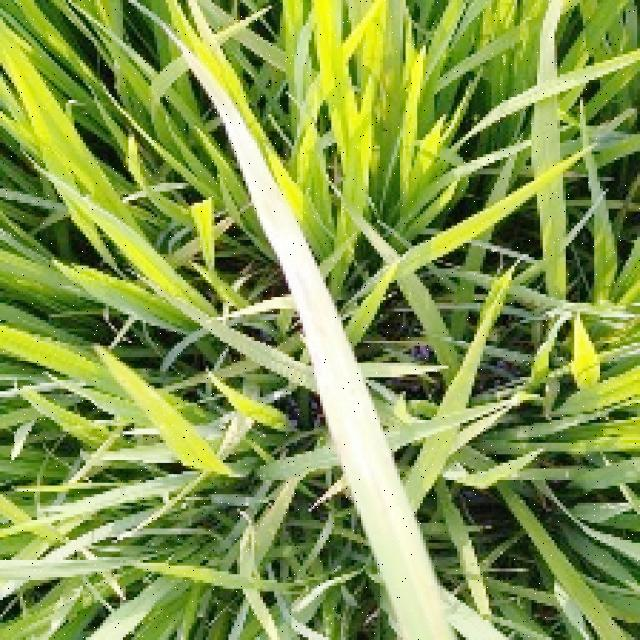unhealth: (160, 23, 453, 640)
